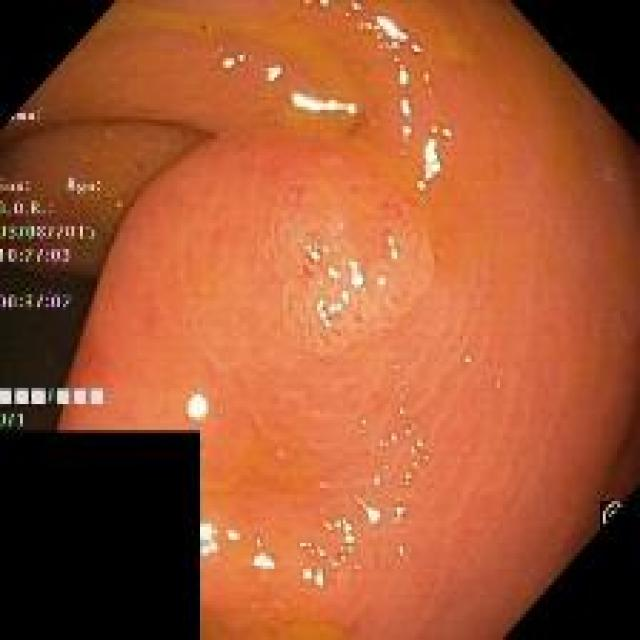Polyps: (260, 150, 434, 353)
